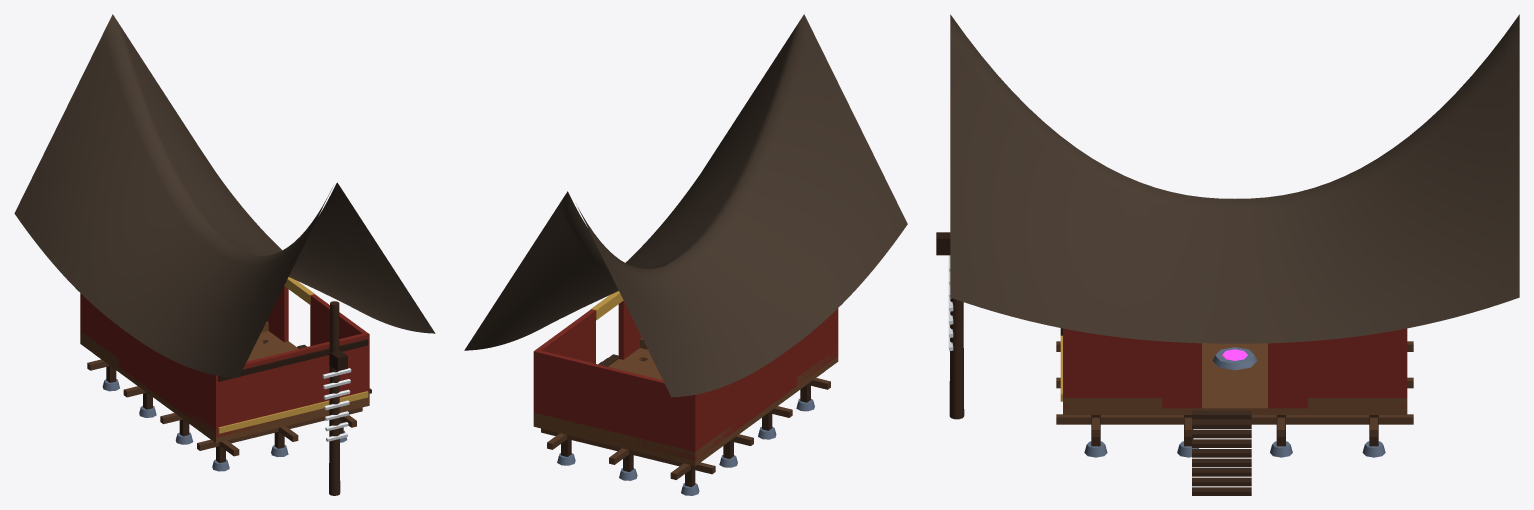
Rendered from tongkonan-toraja.glb.
3 renders of one model, left to right at view 1: azimuth 30°, elevation 25°; view 2: azimuth 150°, elevation 25°; view 3: azimuth 270°, elevation 25°, orthographic. The views are drawn at different scales.
Visible parts, largest first — view 1: ROOF_SYSTEM, WALL_SYSTEM, STILT_COLUMNS, FLOOR_SYSTEM, BUFFALO_HORNS_RACK, FOUNDATION_STONES; view 2: ROOF_SYSTEM, WALL_SYSTEM, FLOOR_SYSTEM, STILT_COLUMNS, FOUNDATION_STONES; view 3: ROOF_SYSTEM, WALL_SYSTEM, FLOOR_SYSTEM, STILT_COLUMNS, ENTRANCE_STAIRS, FOUNDATION_STONES, BUFFALO_HORNS_RACK.
Boxes of the visible parts, x1,y1,x2,y2 form: ROOF_SYSTEM: [14, 14, 435, 377]; WALL_SYSTEM: [80, 286, 369, 437]; STILT_COLUMNS: [87, 301, 362, 495]; FLOOR_SYSTEM: [80, 321, 369, 442]; BUFFALO_HORNS_RACK: [322, 350, 351, 441]; FOUNDATION_STONES: [102, 379, 347, 471]; ROOF_SYSTEM: [464, 14, 907, 397]; WALL_SYSTEM: [533, 300, 838, 460]; FLOOR_SYSTEM: [533, 338, 838, 465]; STILT_COLUMNS: [541, 357, 830, 487]; FOUNDATION_STONES: [557, 398, 814, 495]; ROOF_SYSTEM: [950, 14, 1519, 343]; WALL_SYSTEM: [1060, 328, 1407, 408]; FLOOR_SYSTEM: [1063, 343, 1407, 414]; STILT_COLUMNS: [949, 298, 1413, 446]; ENTRANCE_STAIRS: [1192, 410, 1251, 495]; FOUNDATION_STONES: [1084, 441, 1385, 457]; BUFFALO_HORNS_RACK: [936, 232, 953, 351].
Size of the model in its own units: 10.11 by 13.41 by 17.63.
